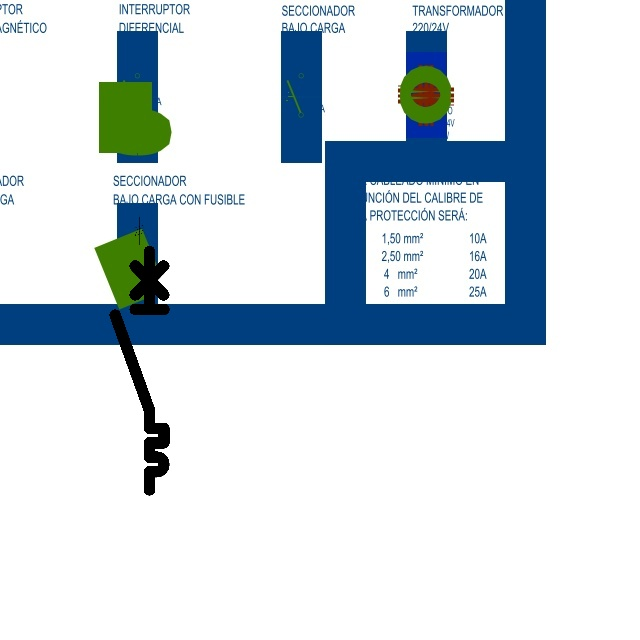interruptor_termomagnetico: (109, 245, 170, 496)
